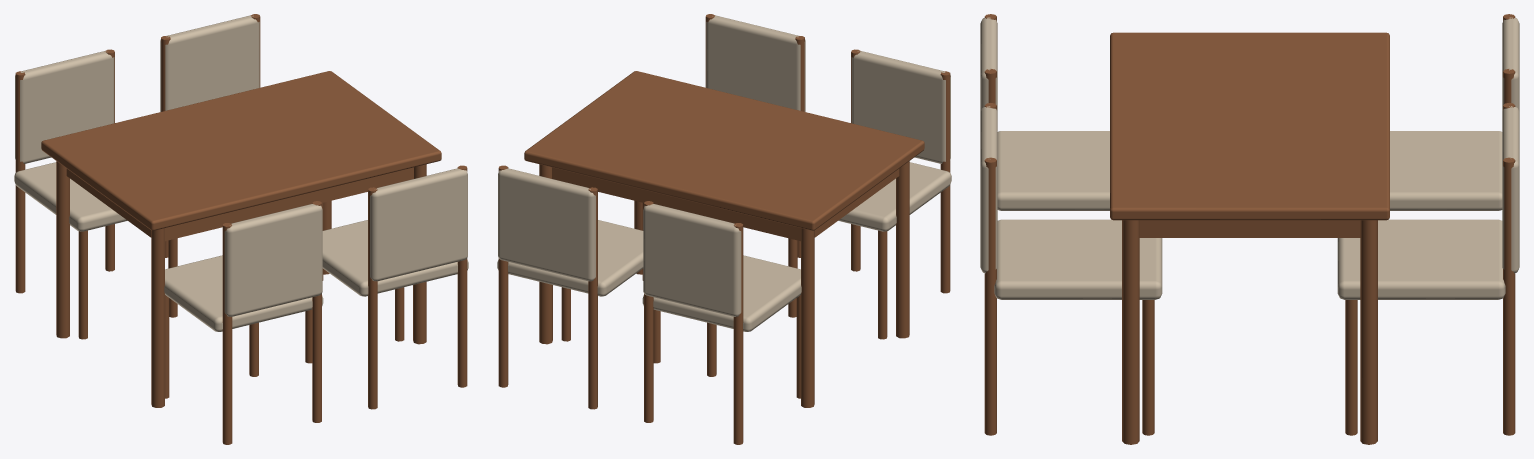
3 renders of one model, left to right at view 1: azimuth 30°, elevation 25°; view 2: azimuth 150°, elevation 25°; view 3: azimuth 270°, elevation 25°, orthographic. The views are drawn at different scales.
Visible parts, largest first — view 1: top, chair-back-1-back, chair-back-2-back, chair-front-1-back, chair-front-2-back, chair-back-1-seat, apron, chair-back-2-seat, chair-front-1-seat, leg-3, leg-1, chair-back-1-leg-back-left (+11 smaller); view 2: top, chair-front-1-back, chair-front-2-back, chair-back-1-back, chair-back-2-back, chair-front-1-seat, apron, chair-front-2-seat, chair-back-1-seat, leg-1, leg-3, chair-front-1-leg-back-right (+11 smaller); view 3: top, chair-back-2-seat, chair-front-2-seat, chair-back-1-seat, chair-front-1-seat, leg-2, leg-4, apron, chair-back-2-leg-back-right, chair-front-2-leg-back-left, chair-back-2-back, chair-front-2-back (+4 smaller).
Boxes of the visible parts, left/top/right/bottom form: top: left=41, top=71, right=441, bottom=230; chair-back-1-back: left=224, top=204, right=322, bottom=316; chair-back-2-back: left=370, top=168, right=467, bottom=281; chair-front-1-back: left=15, top=51, right=114, bottom=163; chair-front-2-back: left=160, top=15, right=259, bottom=111; chair-back-1-seat: left=164, top=255, right=323, bottom=331; apron: left=66, top=167, right=413, bottom=241; chair-back-2-seat: left=322, top=220, right=468, bottom=296; chair-front-1-seat: left=14, top=162, right=127, bottom=231; leg-3: left=151, top=228, right=164, bottom=407; leg-1: left=56, top=161, right=69, bottom=338; chair-back-1-leg-back-left: left=222, top=223, right=232, bottom=444; top: left=524, top=71, right=924, bottom=230; chair-front-1-back: left=643, top=204, right=741, bottom=316; chair-front-2-back: left=498, top=168, right=595, bottom=281; chair-back-1-back: left=851, top=51, right=950, bottom=163; chair-back-2-back: left=706, top=15, right=805, bottom=111; chair-front-1-seat: left=642, top=255, right=801, bottom=331; apron: left=552, top=167, right=899, bottom=241; chair-front-2-seat: left=497, top=220, right=643, bottom=296; chair-back-1-seat: left=838, top=162, right=951, bottom=231; leg-1: left=801, top=228, right=814, bottom=407; leg-3: left=896, top=161, right=909, bottom=338; chair-front-1-leg-back-right: left=733, top=223, right=743, bottom=444; top: left=1110, top=32, right=1389, bottom=220; chair-back-2-seat: left=994, top=219, right=1162, bottom=299; chair-front-2-seat: left=1337, top=219, right=1505, bottom=299; chair-back-1-seat: left=997, top=131, right=1109, bottom=210; chair-front-1-seat: left=1390, top=131, right=1502, bottom=210; leg-2: left=1360, top=220, right=1377, bottom=444; leg-4: left=1122, top=220, right=1139, bottom=444; apron: left=1139, top=220, right=1360, bottom=237; chair-back-2-leg-back-right: left=984, top=157, right=996, bottom=435; chair-front-2-leg-back-left: left=1503, top=157, right=1515, bottom=435; chair-back-2-back: left=980, top=106, right=997, bottom=273; chair-front-2-back: left=1502, top=106, right=1519, bottom=273.
Size of the model in its own units: 1.2 by 0.86 by 1.54.
